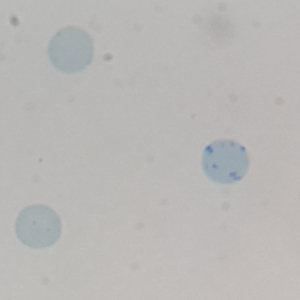aggregate reticulocyte: (200, 139, 250, 186)
punctate reticulocyte: (46, 26, 96, 75), (13, 204, 63, 251)
